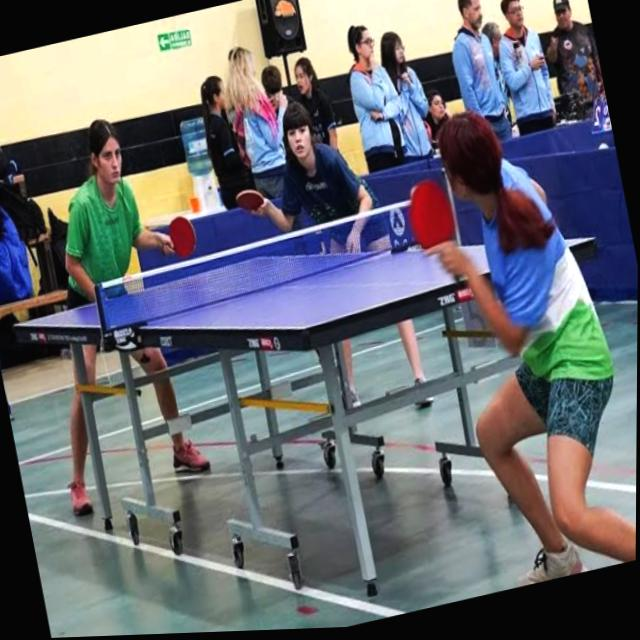TT Net: (90, 184, 460, 343)
TT Racket: (389, 169, 463, 265), (167, 208, 204, 270), (231, 182, 268, 219)
TT Table: (13, 237, 597, 330)
